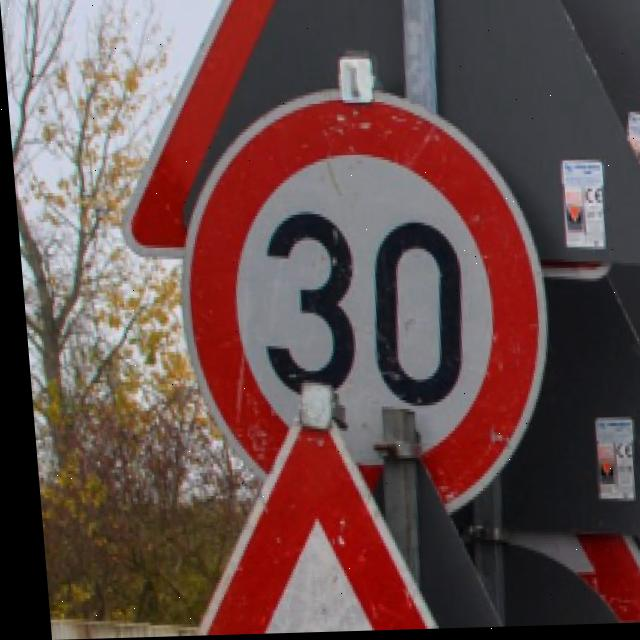Speed limit 30: (161, 82, 558, 525)
